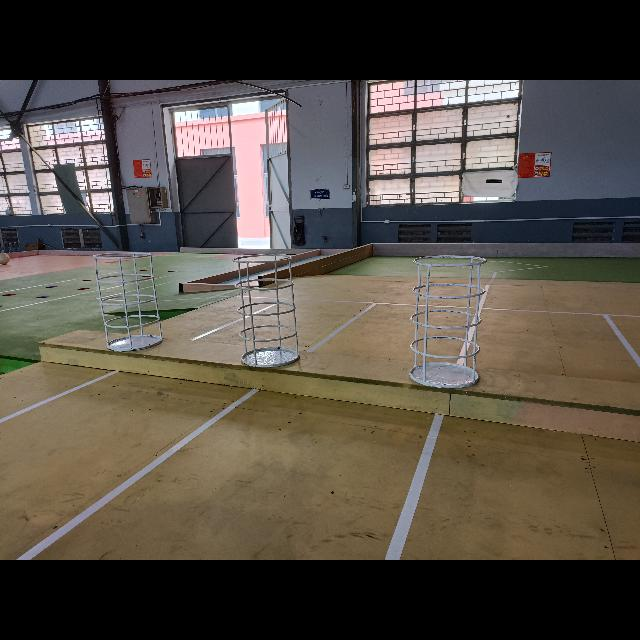S: (407, 254, 486, 390), (233, 251, 300, 367), (93, 250, 164, 355)
